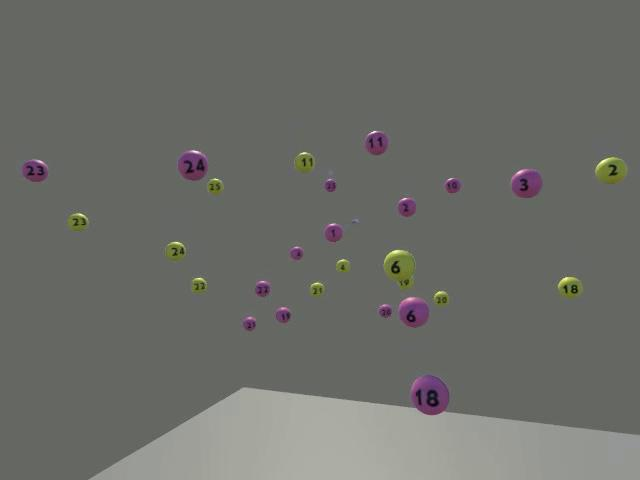ball_01_pink: (324, 223, 342, 242)
ball_02_pink: (397, 197, 415, 216)
ball_02_yellow: (594, 156, 627, 184), (190, 278, 207, 293)
ball_03_pink: (510, 168, 542, 197)
ball_04_pink: (290, 247, 303, 259)
ball_04_yellow: (335, 259, 350, 273)
ball_06_pink: (397, 296, 429, 327)
ball_06_yellow: (383, 249, 415, 281)
ball_10_pink: (444, 177, 460, 193)
ball_11_pink: (364, 130, 388, 155)
ball_11_yellow: (293, 151, 314, 172)
ball_18_pink: (410, 376, 449, 415)
ball_18_yellow: (557, 276, 582, 297)
ball_19_pink: (275, 306, 290, 323)
ball_19_yellow: (397, 275, 414, 289)
ball_20_pink: (378, 304, 392, 318)
ball_20_yellow: (433, 291, 448, 306)
ball_21_pink: (243, 316, 257, 329)
ball_21_yellow: (309, 282, 325, 298)
ball_22_pink: (254, 280, 270, 296)
ball_23_pink: (21, 159, 48, 181)
ball_23_yellow: (67, 213, 88, 230)
ball_24_pink: (177, 150, 209, 181)
ball_24_yellow: (164, 241, 185, 260)
ball_25_pink: (324, 179, 337, 193)
ball_25_yellow: (206, 177, 223, 195)
